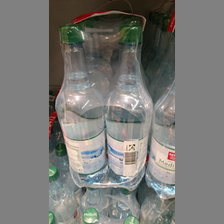water: (102, 20, 152, 193), (55, 24, 107, 185)
